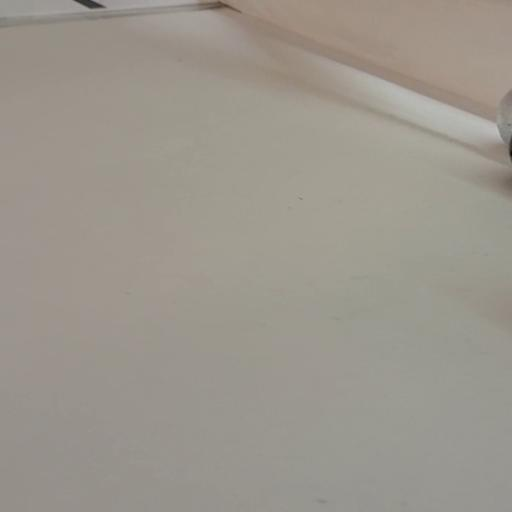alive: (496, 87, 512, 162)
